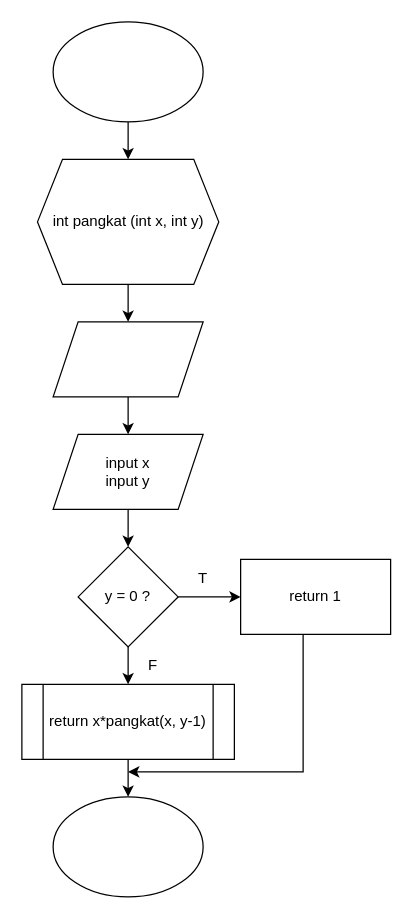
This 413x919 diagram has some shape labels left out. Here are the shapes that lost their labels. From the top down, the box of each, then its label:
(52, 21, 203, 122): start
(52, 321, 203, 397): int x, int y
(52, 796, 203, 897): end
